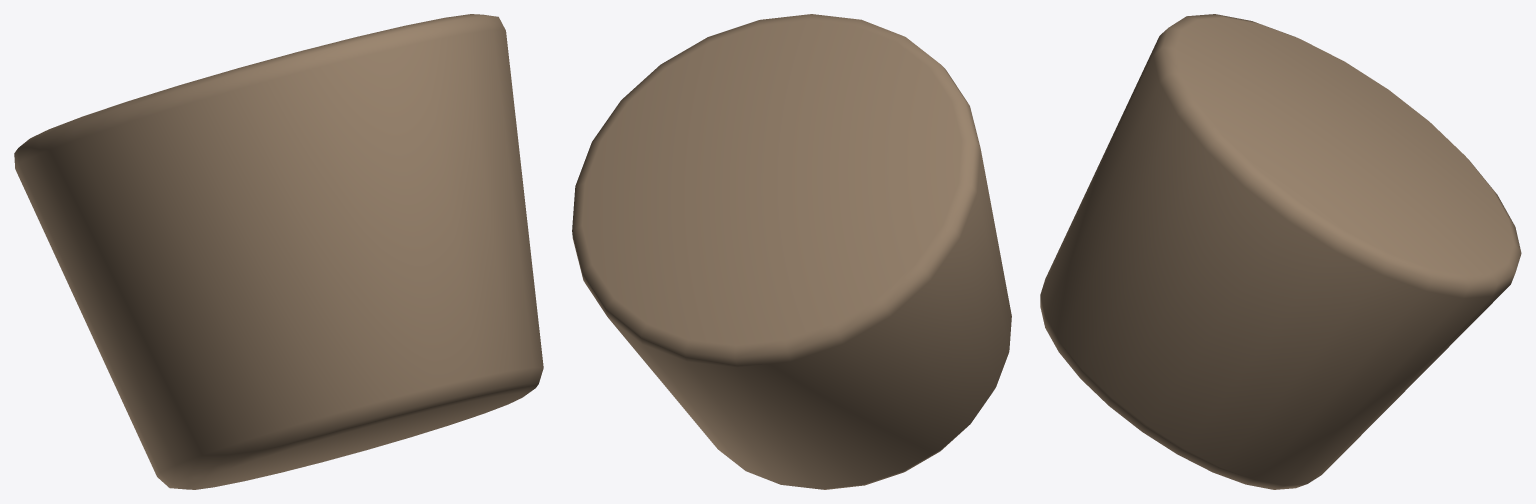
File: MoonCork.fbx
3 renders of one model, left to right at view 1: azimuth 30°, elevation 25°; view 2: azimuth 150°, elevation 25°; view 3: azimuth 270°, elevation 25°, orthographic. The views are drawn at different scales.
Parts seen in each view (by area): view 1: MoonLid; view 2: MoonLid; view 3: MoonLid.
Part boxes in pixels (box(x1,y1,x2,y2)): MoonLid: box(14, 14, 543, 489); MoonLid: box(572, 14, 1011, 489); MoonLid: box(1040, 14, 1521, 489).
Size of the model in its own units: 31.18 by 33.34 by 34.83.
